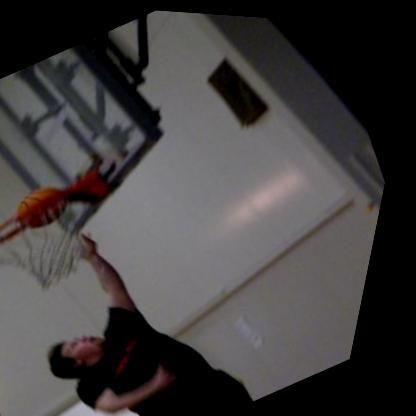basketball: (16, 174, 86, 234)
rim: (0, 181, 88, 264)
